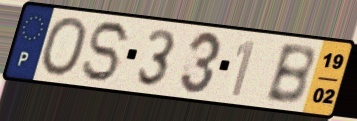1: (230, 38, 258, 98)
3: (178, 30, 223, 97), (134, 28, 179, 89)
B: (262, 43, 316, 107)
O: (38, 15, 89, 79)
S: (78, 19, 135, 84)
